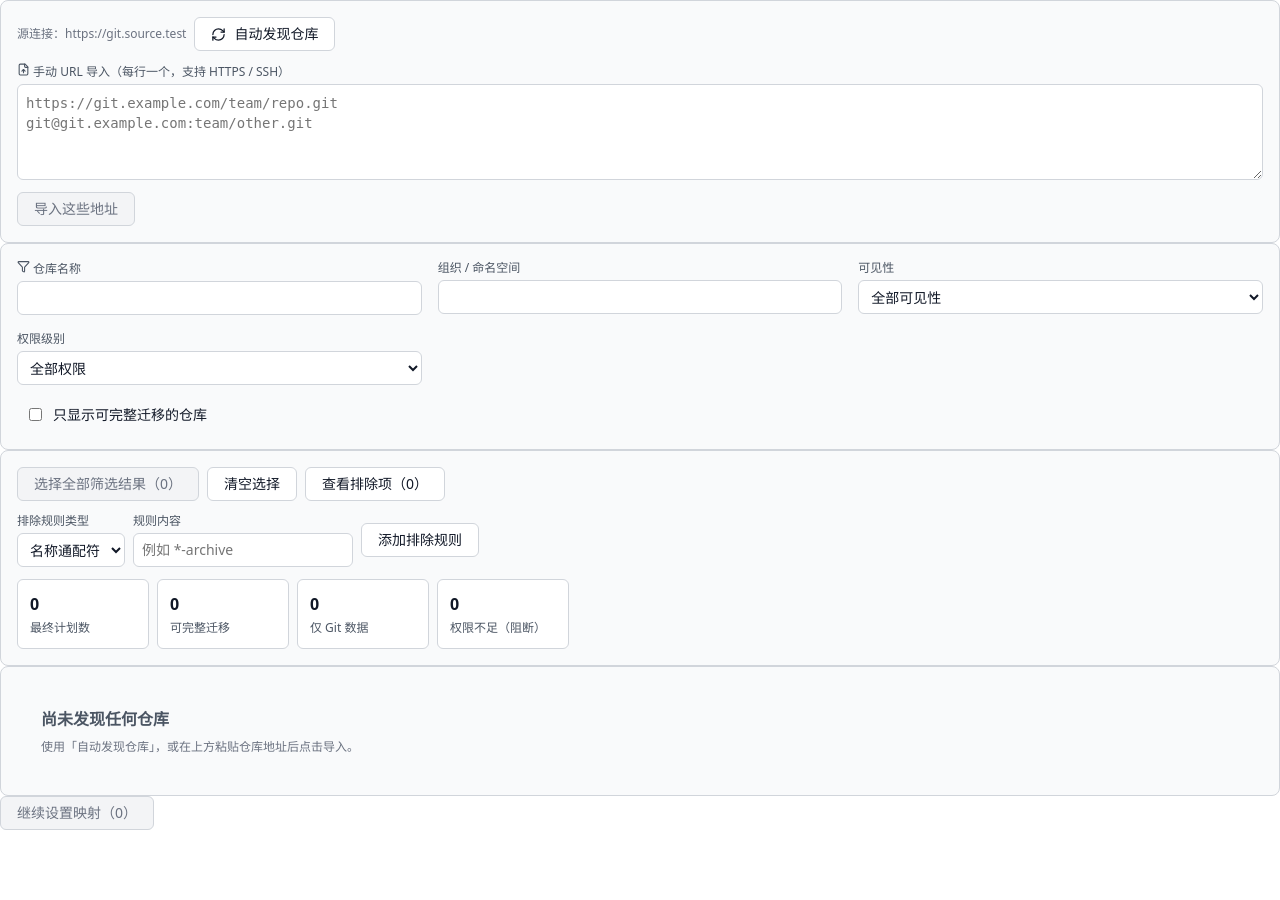
Test case: 仓库选择页 › 导入报告逐行说明未导入的地址
Replace the text in the text box labelled "手动 URL 导入（每行一个，支持 HTTPS / SSH）" with "https://git.example.test/a.git". click: (640, 132)
box: top-left (17, 84), bottom-right (1263, 180)
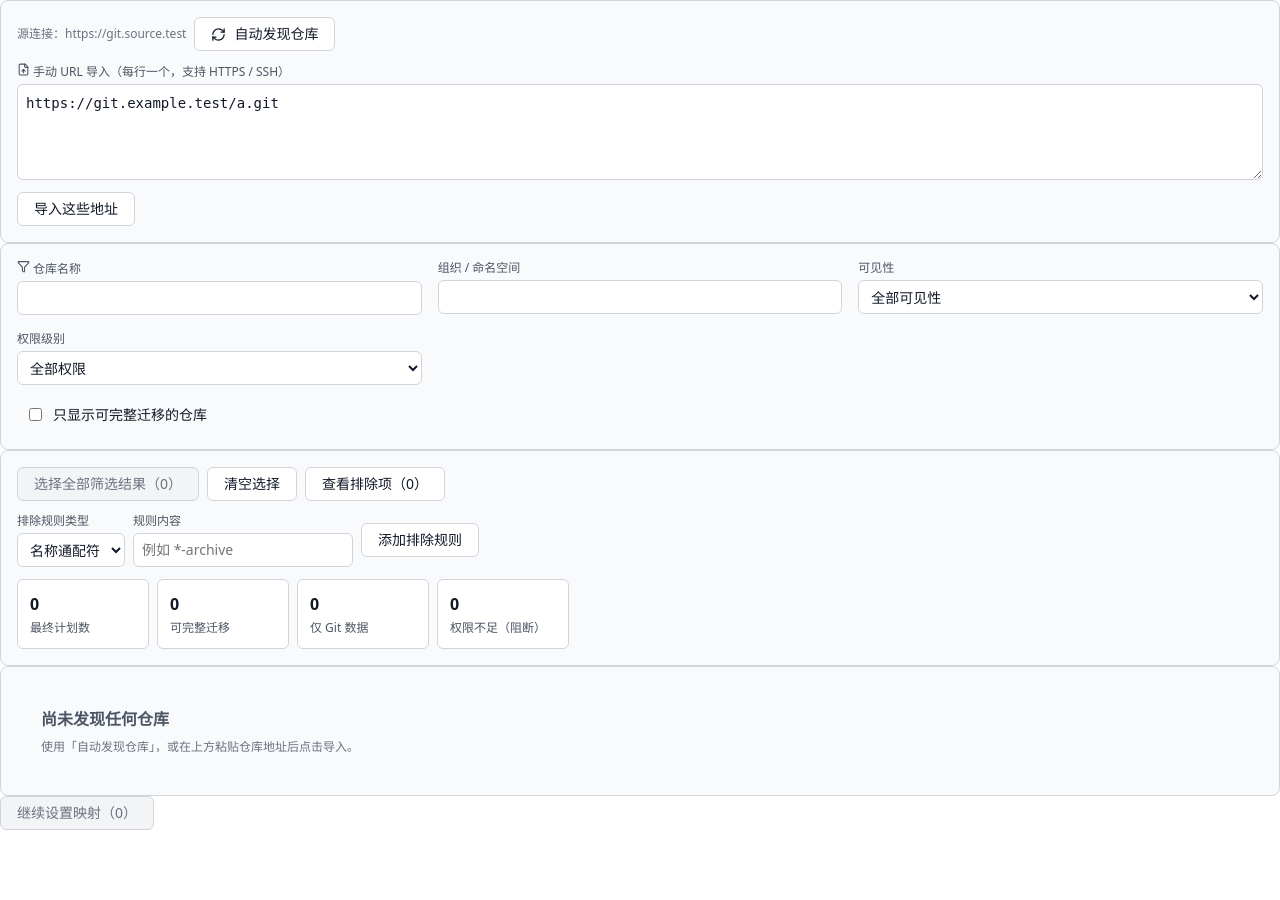
Click the button "导入这些地址". click: (76, 209)
box: top-left (17, 192), bottom-right (135, 226)
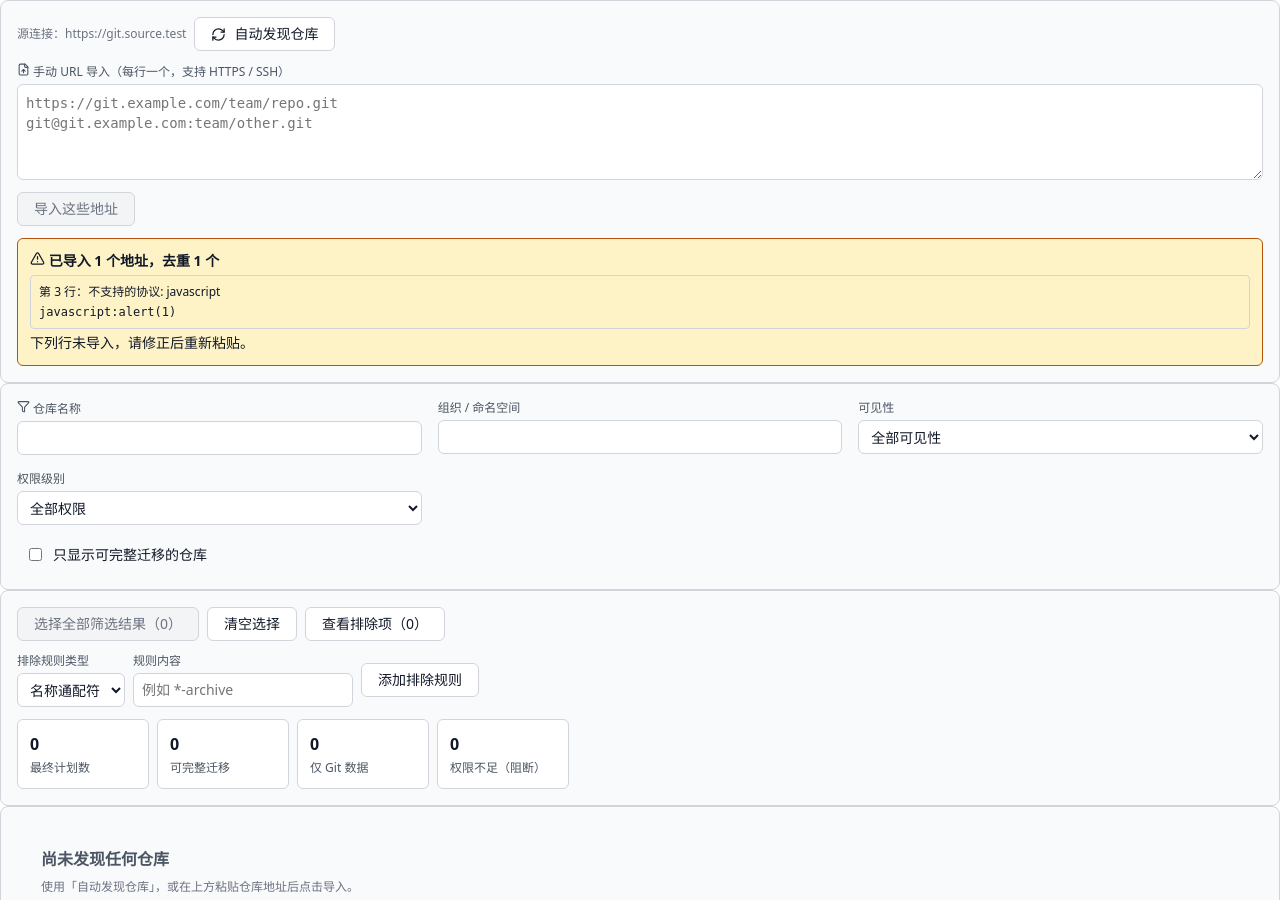
Expected: the text "已导入 1 个地址，去重 1 个" is shown, top-left (30, 251), bottom-right (219, 270)
Expected: the list item "第 3 行：不支持的协议: javascript javascript:alert(1)" is shown, top-left (30, 275), bottom-right (1250, 329)
